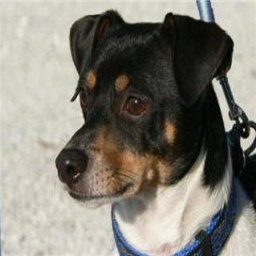dog: (55, 7, 256, 256)
